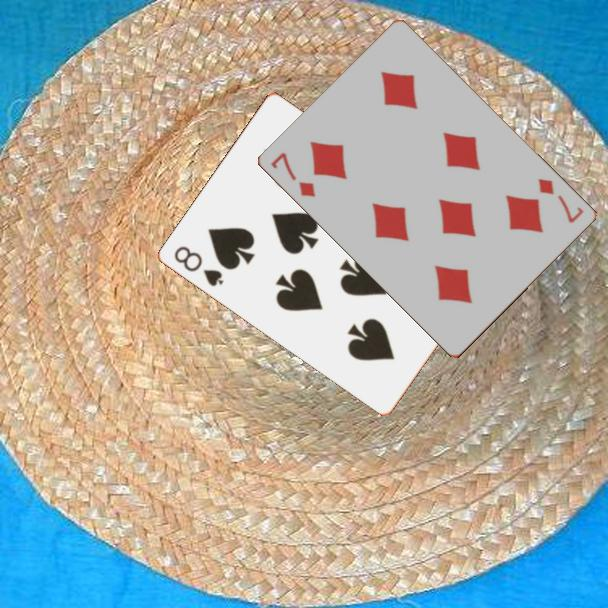d07: (535, 175, 587, 226), (268, 148, 319, 200)
s08: (171, 242, 227, 289)
